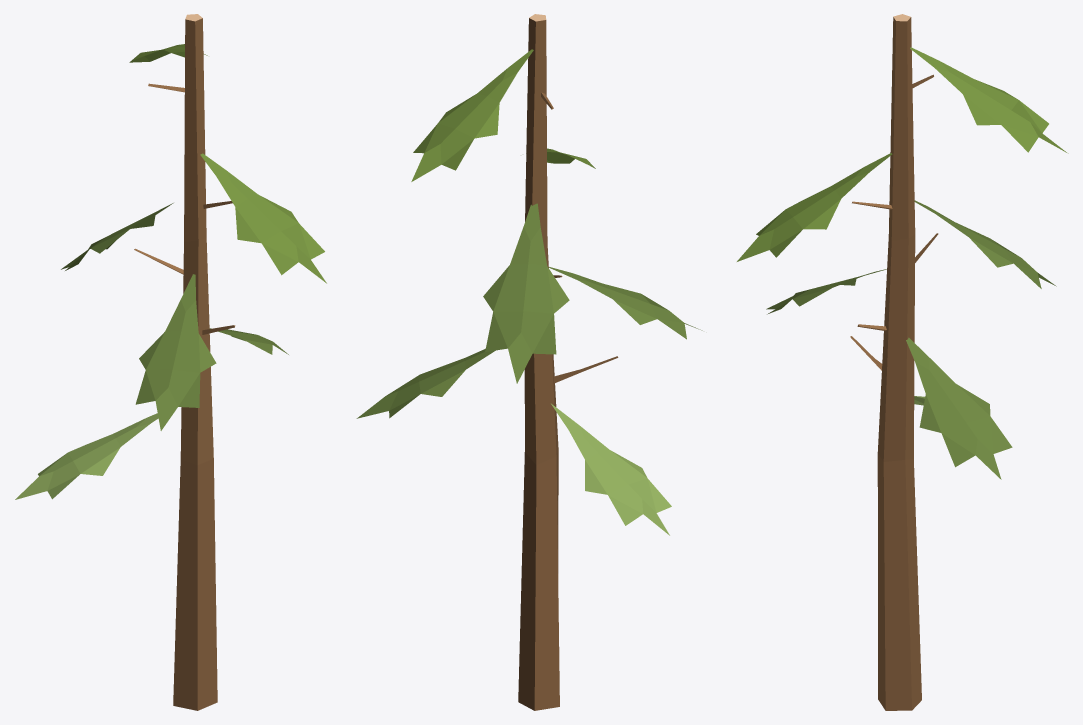
The model's file is Dead_Pine_Tree_crk_OneSided_l_02_LOD.fbx.
3 renders of one model, left to right at view 1: azimuth 30°, elevation 25°; view 2: azimuth 150°, elevation 25°; view 3: azimuth 270°, elevation 25°, orthographic.
Visible parts, largest first — view 1: Dead_Pine_Tree_crk_OneSided_l_02_LOD0; view 2: Dead_Pine_Tree_crk_OneSided_l_02_LOD0; view 3: Dead_Pine_Tree_crk_OneSided_l_02_LOD0.
Part boxes in pixels (left/top/right/bottom): Dead_Pine_Tree_crk_OneSided_l_02_LOD0: left=15, top=14, right=326, bottom=710; Dead_Pine_Tree_crk_OneSided_l_02_LOD0: left=356, top=14, right=702, bottom=710; Dead_Pine_Tree_crk_OneSided_l_02_LOD0: left=737, top=14, right=1068, bottom=710.
Size of what is drawn, in the model's own units: 459 by 1042 by 459.
